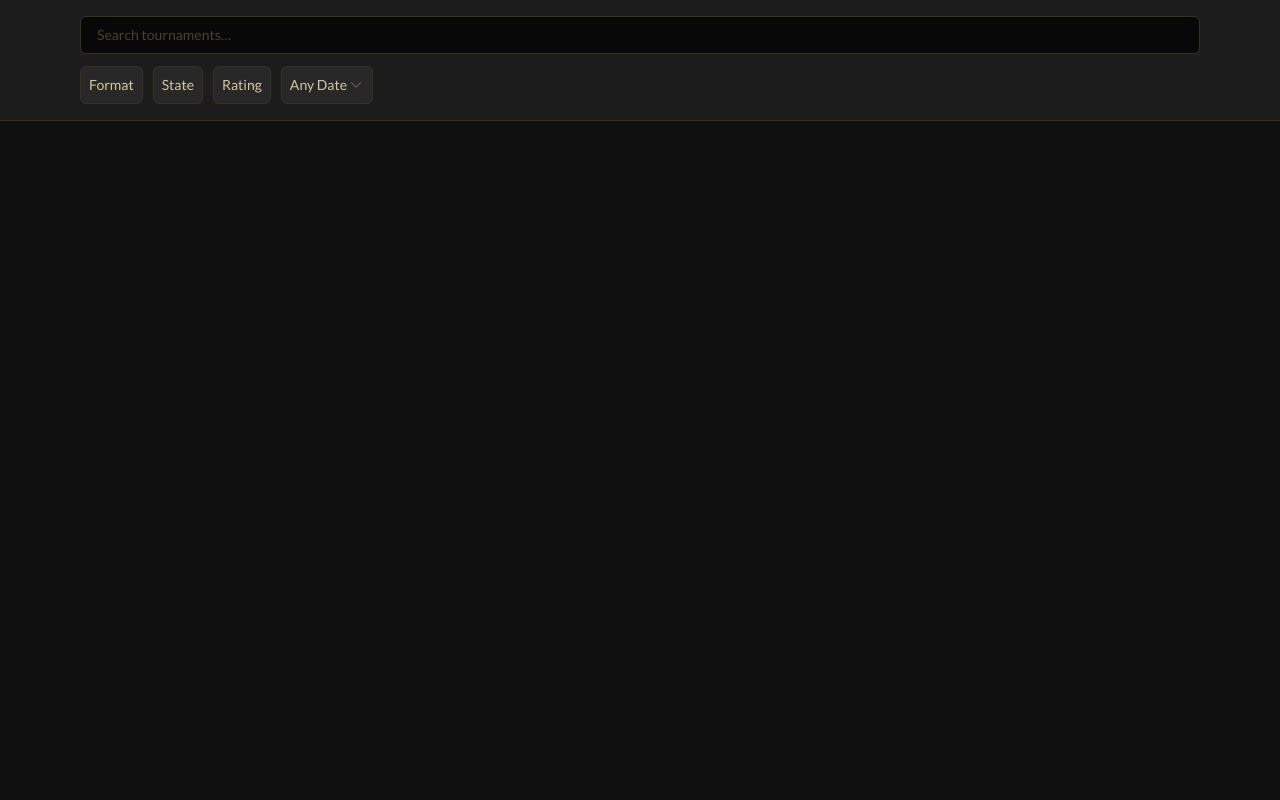
Test case: dropdown open/close › closes the dropdown when clicking outside (mousedown on document.body)
Click the button "Format" at {"x": 111, "y": 85}, box [80,66,143,104]
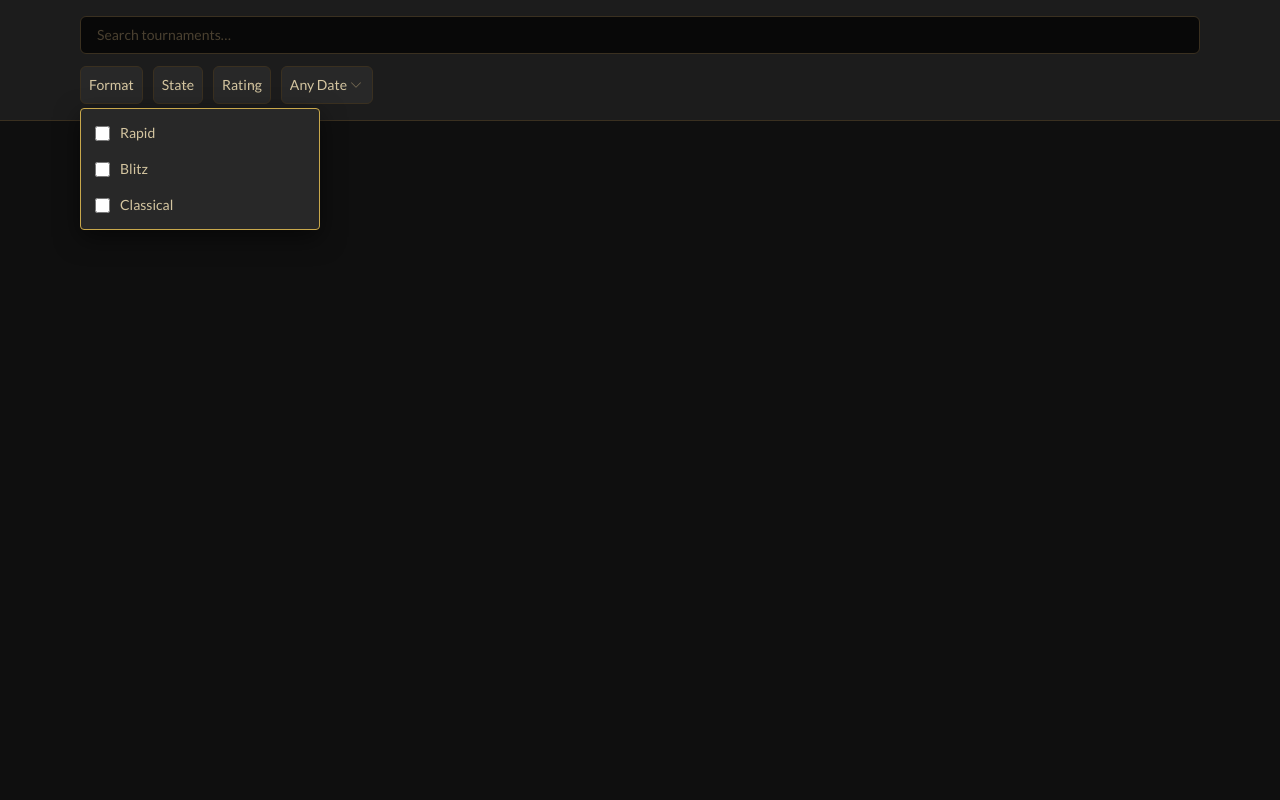
Expected: the checkbox labelled "Rapid" is shown, [95,126,110,140]
Press the mouse on the element showing "Format Rapid Blitz Classical State Rating" at {"x": 640, "y": 400}, box [0,0,1279,799]
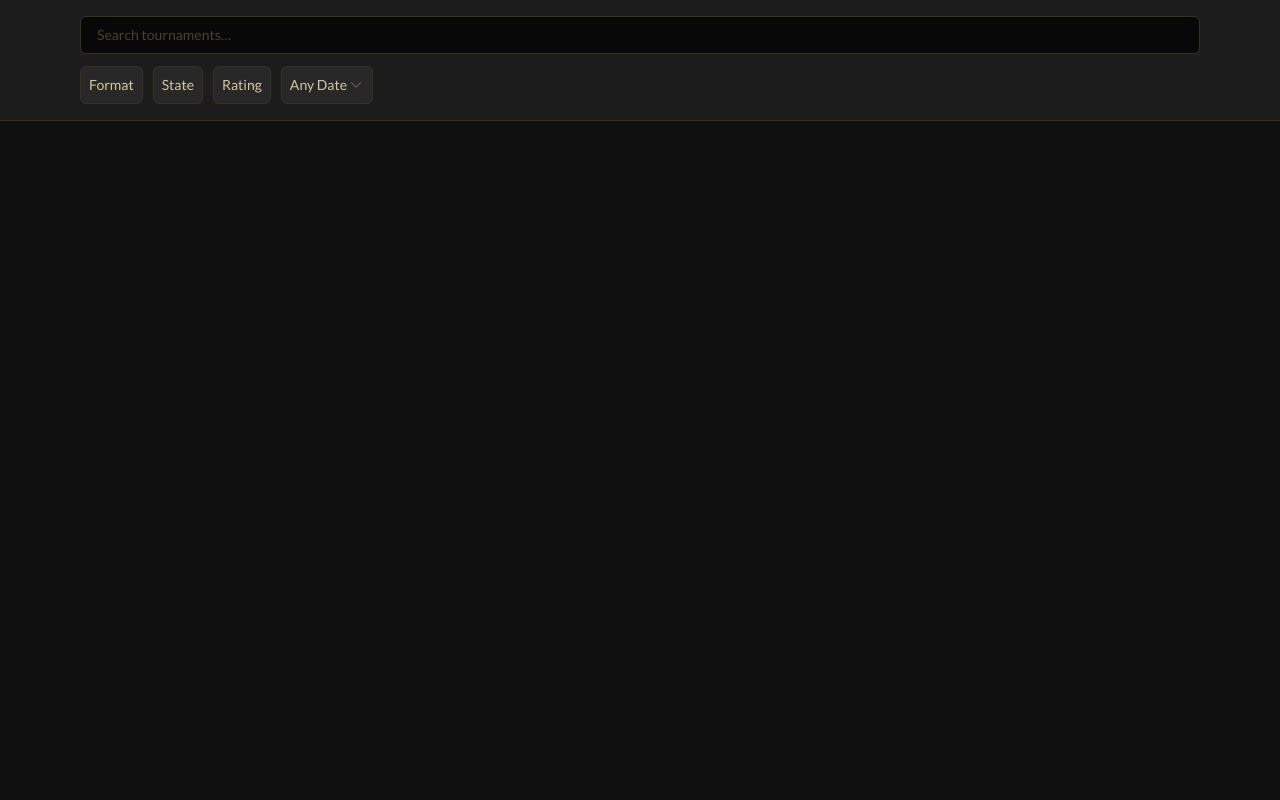
Expected: no checkboxes are shown
